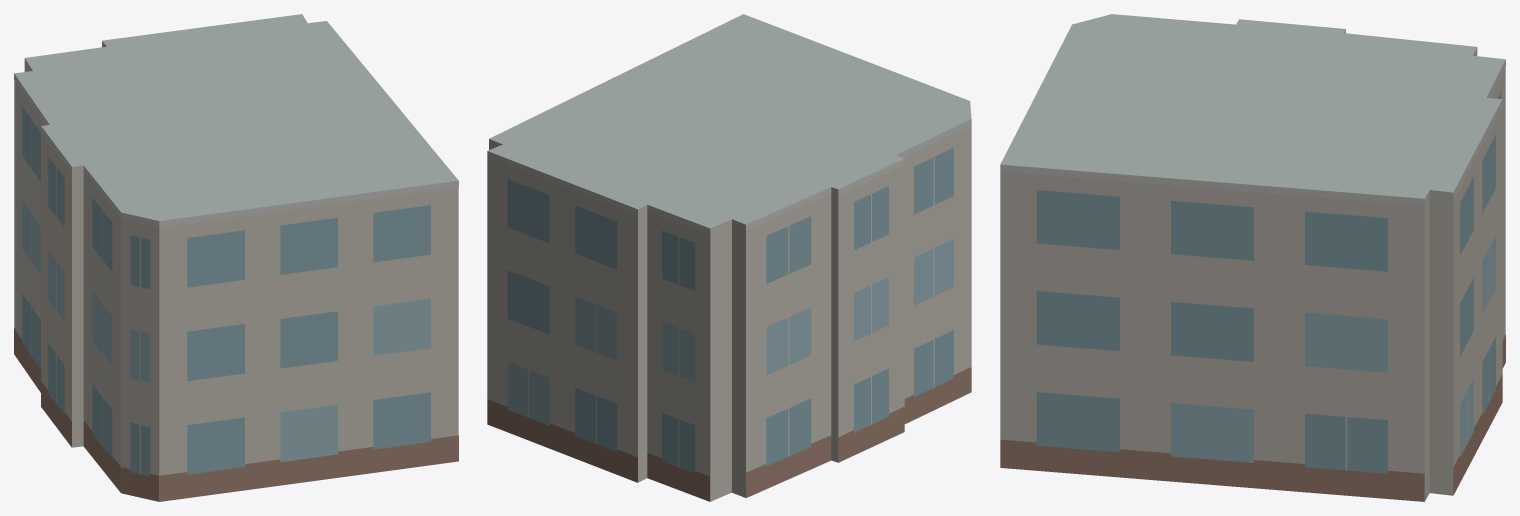
Rendered from survey-upis-32717611.glb.
3 views of the same model, side by side, from view 1: azimuth 30°, elevation 25°; view 2: azimuth 150°, elevation 25°; view 3: azimuth 270°, elevation 25° (orthographic). The views are drawn at different scales.
Visible parts, largest first — view 1: survey-upis-32717611.tmp; view 2: survey-upis-32717611.tmp; view 3: survey-upis-32717611.tmp.
Part boxes in pixels (<box>): survey-upis-32717611.tmp: <box>14,14,458,501</box>; survey-upis-32717611.tmp: <box>487,14,971,501</box>; survey-upis-32717611.tmp: <box>1000,14,1505,501</box>.
Bounding box in the file's own units: 13.47 × 10.3 × 15.58.
